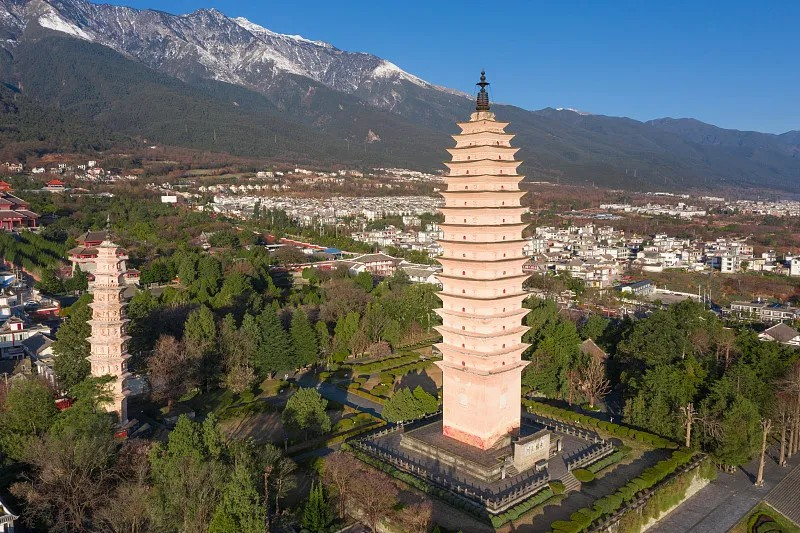ThreePagoda: (433, 69, 534, 450)
